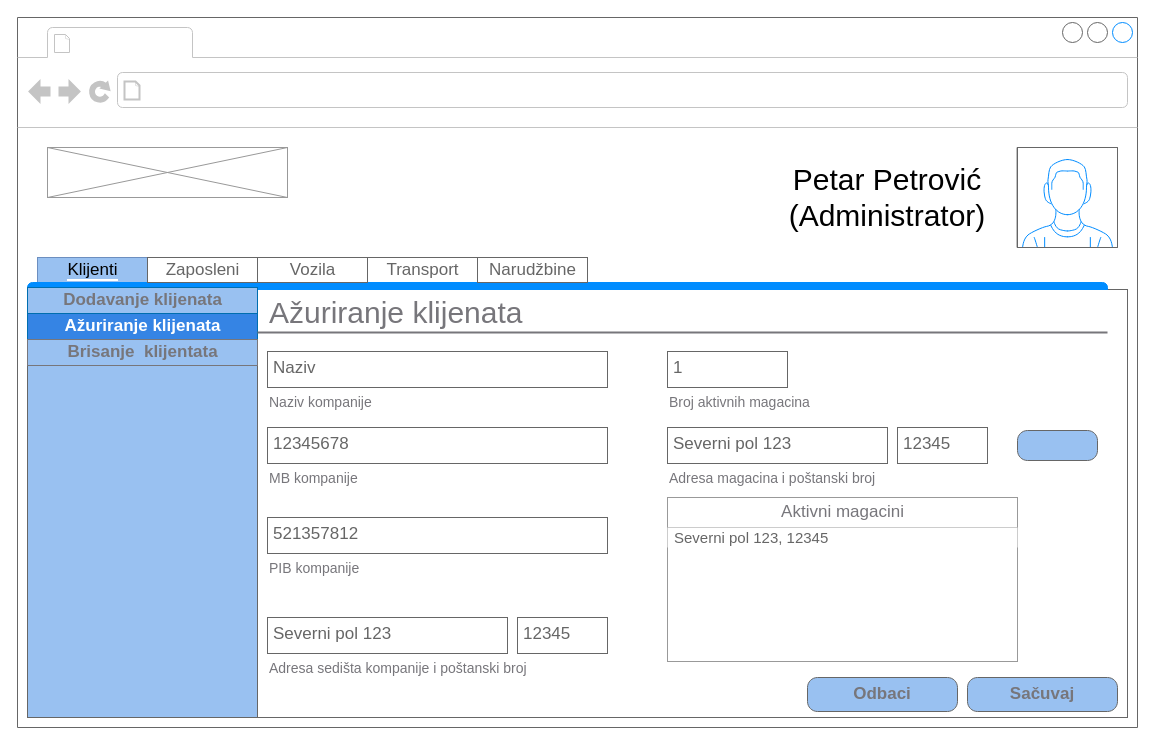
Image size: 1155x745. Some labels were removed from this diagram. The shapes that lost their labels are listed below. From the top down, each one's centre as x and y in pixels, then its label:
the point at 132,42: Transport šećera
the point at 372,90: https://www.transportsecera.com/admin/klijenti
the point at 167,172: LOGO
the point at 1057,445: Dodaj +
